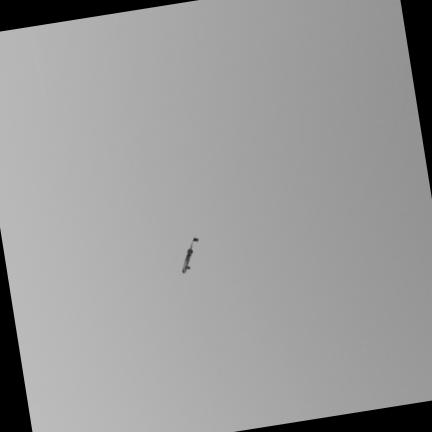Shahed: (182, 238, 198, 273)
